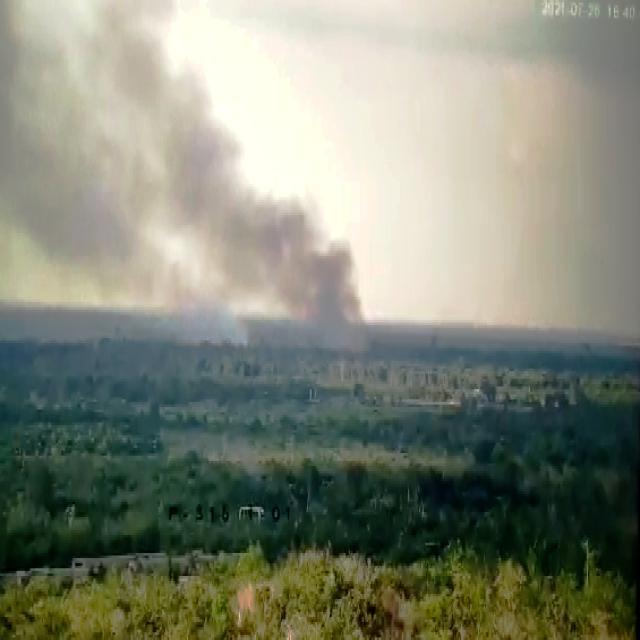asap: (1, 1, 380, 372)
